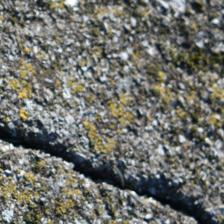Crack: (3, 64, 207, 157)
